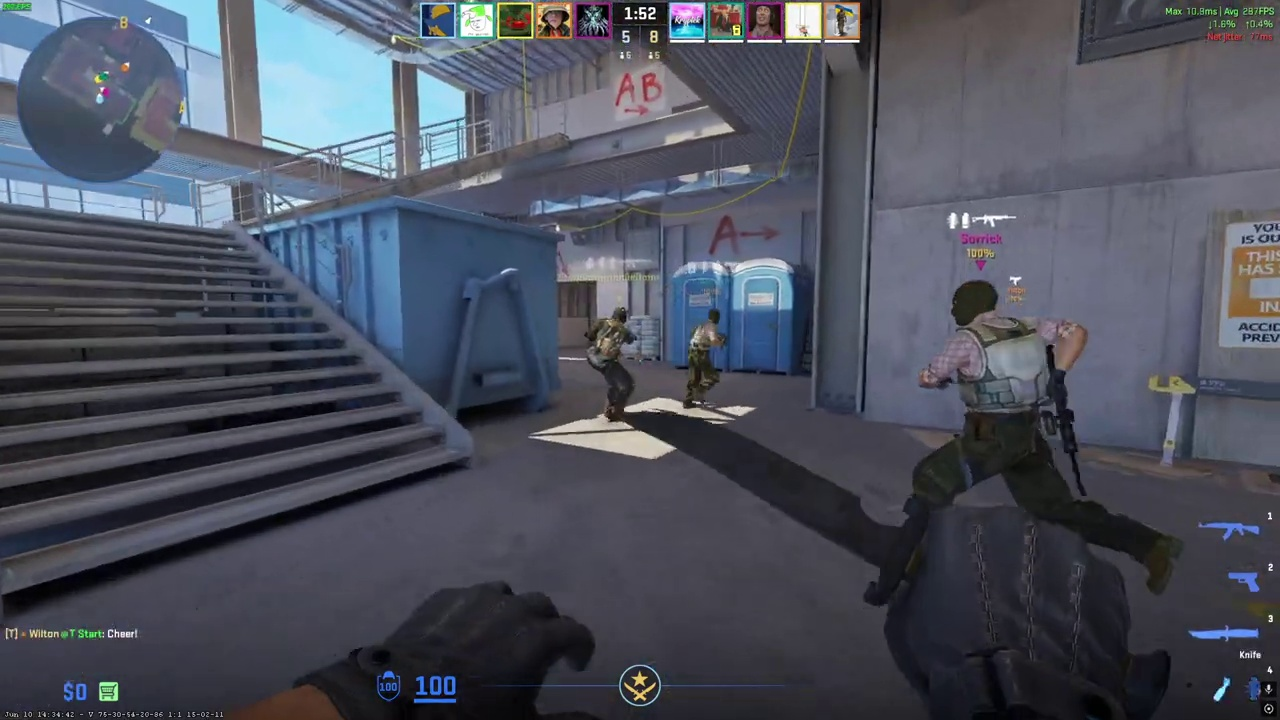Terrorist: (917, 279, 1077, 538), (594, 306, 637, 420), (684, 308, 725, 409)
